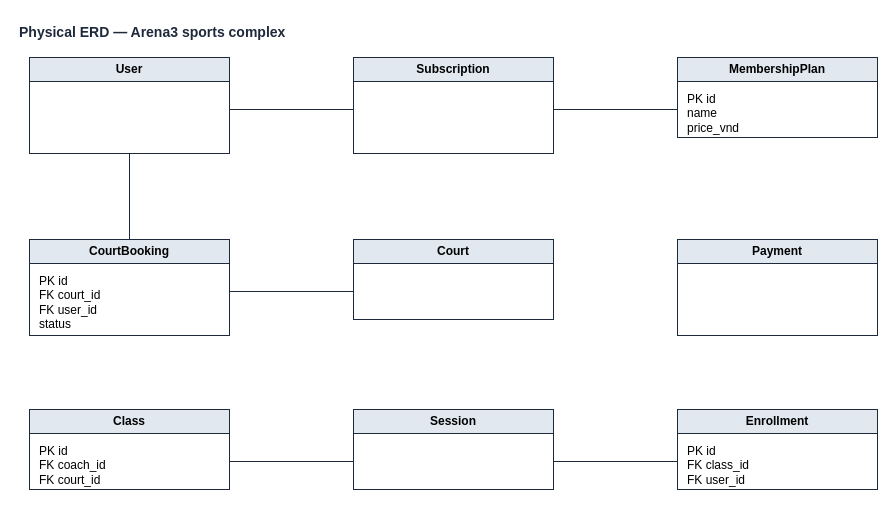
Some shapes in this 895 by 507 pixel diagram are drawn without their labels. The centre of each missing label's shape, as x and y in pixels:
PK id court_code sport: (453,291)
PK id FK class_id start_at: (453,461)
PK id FK user_id amount_vnd status: (777,299)
PK id FK user_id FK plan_id status: (453,117)
PK id phone role status: (129,117)
